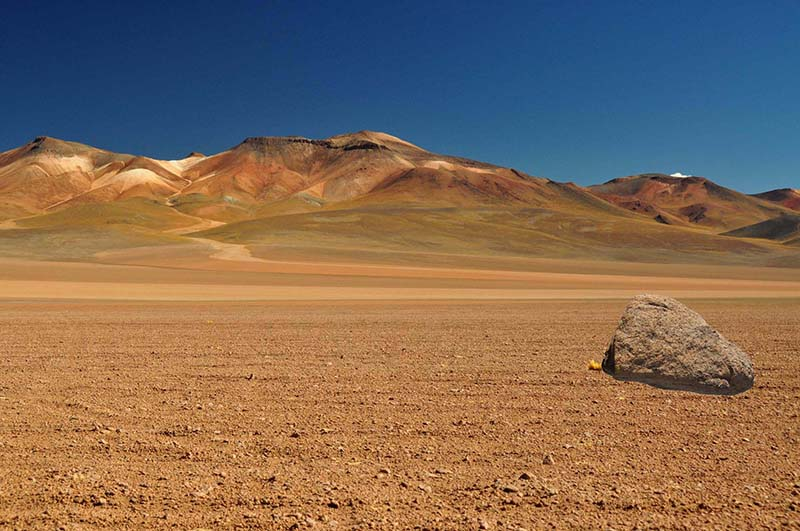Rocks: (596, 287, 761, 402)
